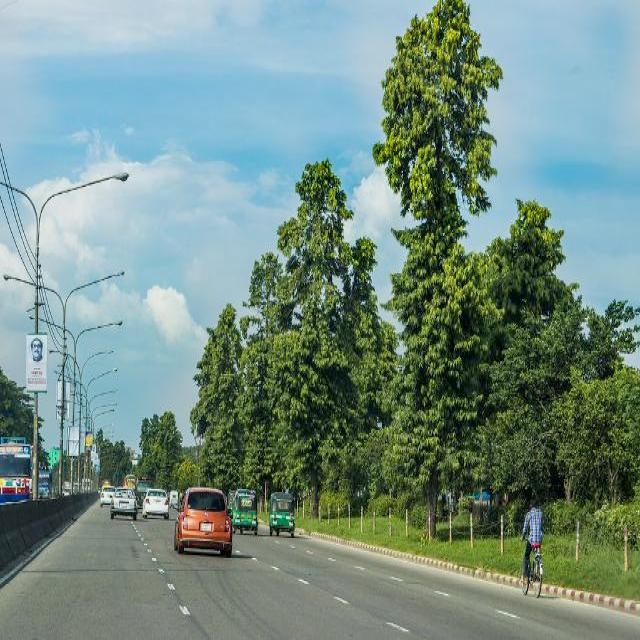white: (109, 487, 136, 518), (143, 489, 168, 517), (99, 482, 118, 501)
